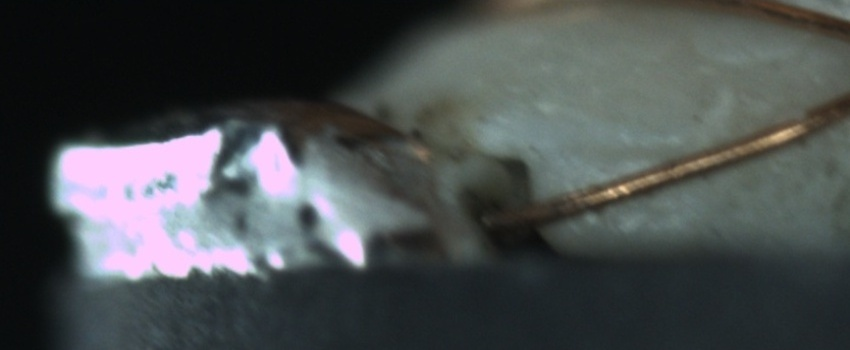DL: (567, 120, 699, 183)
